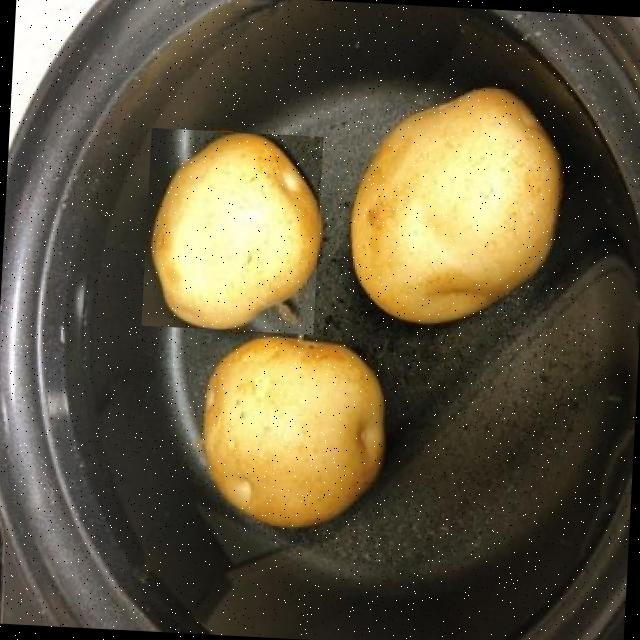Potato: (342, 74, 566, 330), (192, 338, 392, 535), (142, 127, 324, 334)
